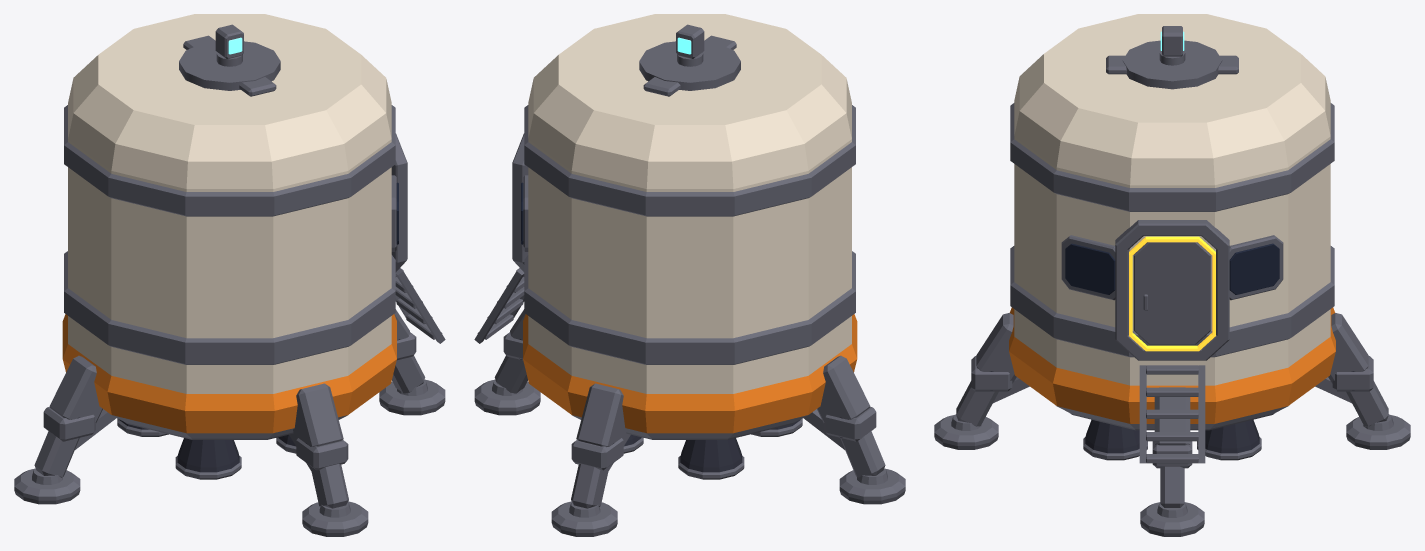
File: landing-ship.glb
3 views of the same model, side by side, from view 1: azimuth 30°, elevation 25°; view 2: azimuth 150°, elevation 25°; view 3: azimuth 270°, elevation 25° (orthographic). The views are drawn at different scales.
Visible parts, largest first — view 1: Ivory pressure hull, landing-ship_smooth-structure_structure-gray, Orange heat shield skirt, landing_leg_3_smooth-structure_structure-gray, landing_leg_4_smooth-structure_structure-gray, landing_leg_1_smooth-structure_structure-gray, nozzle_2_dark-trim, ramp_smooth-structure_structure-gray, Ship cyan beacon_smooth-structure_structure-gray, Bell lip; view 2: Ivory pressure hull, landing-ship_smooth-structure_structure-gray, Orange heat shield skirt, landing_leg_3_smooth-structure_structure-gray, landing_leg_2_smooth-structure_structure-gray, landing_leg_1_smooth-structure_structure-gray, nozzle_3_dark-trim, ramp_smooth-structure_structure-gray, Ship cyan beacon_smooth-structure_structure-gray, Bell lip; view 3: Ivory pressure hull, landing-ship_smooth-structure_structure-gray, Orange heat shield skirt, hatch_smooth-structure_structure-gray, landing_leg_2_smooth-structure_structure-gray, landing_leg_4_smooth-structure_structure-gray, landing_leg_1_smooth-structure_structure-gray, Recessed dark viewport (×2), ramp_smooth-structure_structure-gray, Window octagonal frame (×2), Amber inner hatch seal, nozzle_1_dark-trim (+2 smaller).
Boxes of the visible parts, x1,y1,x2,y2 form: Ivory pressure hull: [68, 14, 391, 393]; landing-ship_smooth-structure_structure-gray: [64, 35, 407, 439]; Orange heat shield skirt: [62, 314, 396, 433]; landing_leg_3_smooth-structure_structure-gray: [14, 355, 116, 504]; landing_leg_4_smooth-structure_structure-gray: [289, 383, 368, 536]; landing_leg_1_smooth-structure_structure-gray: [379, 309, 445, 415]; nozzle_2_dark-trim: [177, 438, 239, 472]; ramp_smooth-structure_structure-gray: [395, 268, 445, 343]; Ship cyan beacon_smooth-structure_structure-gray: [215, 24, 243, 66]; Bell lip: [175, 456, 241, 479]; Ivory pressure hull: [528, 14, 851, 393]; landing-ship_smooth-structure_structure-gray: [512, 35, 855, 439]; Orange heat shield skirt: [523, 314, 857, 433]; landing_leg_3_smooth-structure_structure-gray: [803, 355, 905, 504]; landing_leg_2_smooth-structure_structure-gray: [551, 383, 630, 536]; landing_leg_1_smooth-structure_structure-gray: [474, 309, 540, 415]; nozzle_3_dark-trim: [680, 438, 742, 472]; ramp_smooth-structure_structure-gray: [474, 268, 524, 343]; Ship cyan beacon_smooth-structure_structure-gray: [676, 24, 704, 66]; Bell lip: [678, 456, 744, 479]; Ivory pressure hull: [1014, 14, 1330, 385]; landing-ship_smooth-structure_structure-gray: [1010, 40, 1334, 430]; Orange heat shield skirt: [1009, 307, 1335, 423]; hatch_smooth-structure_structure-gray: [1133, 242, 1211, 344]; landing_leg_2_smooth-structure_structure-gray: [1315, 313, 1410, 449]; landing_leg_4_smooth-structure_structure-gray: [934, 313, 1029, 449]; landing_leg_1_smooth-structure_structure-gray: [1140, 387, 1204, 536]; Recessed dark viewport (×2): [1065, 243, 1279, 294]; ramp_smooth-structure_structure-gray: [1139, 365, 1205, 463]; Window octagonal frame (×2): [1061, 235, 1283, 300]; Amber inner hatch seal: [1129, 236, 1215, 351]; nozzle_1_dark-trim: [1085, 419, 1139, 453].
Bounding box in the file's own units: 6.99 × 6.59 × 6.99.
